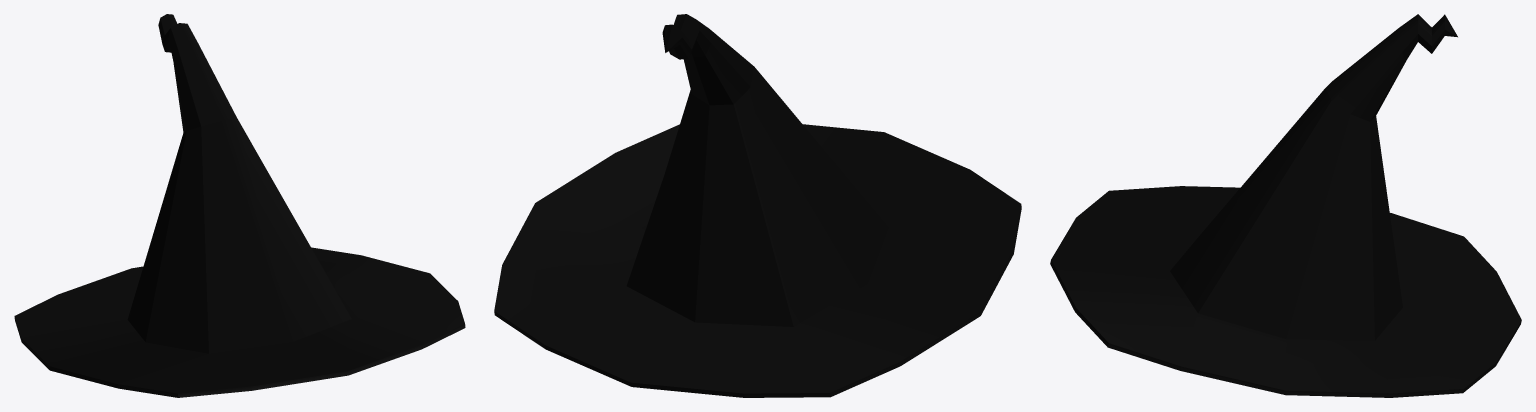
The model's file is witchhat.fbx.
3 views of the same model, side by side, from view 1: azimuth 30°, elevation 25°; view 2: azimuth 150°, elevation 25°; view 3: azimuth 270°, elevation 25° (orthographic). The views are drawn at different scales.
Visible parts, largest first — view 1: witchhat; view 2: witchhat; view 3: witchhat.
Boxes of the visible parts, left/top/right/bottom form: witchhat: left=14, top=14, right=465, bottom=397; witchhat: left=494, top=14, right=1021, bottom=397; witchhat: left=1050, top=14, right=1521, bottom=397.
Bounding box in the file's own units: 45.69 × 32.62 × 45.13.
